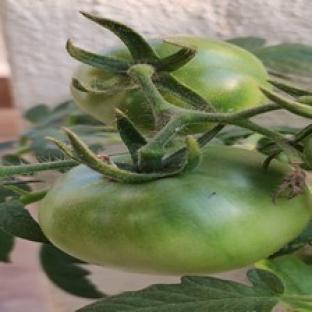Tomato: (39, 147, 311, 274), (172, 37, 268, 112)
